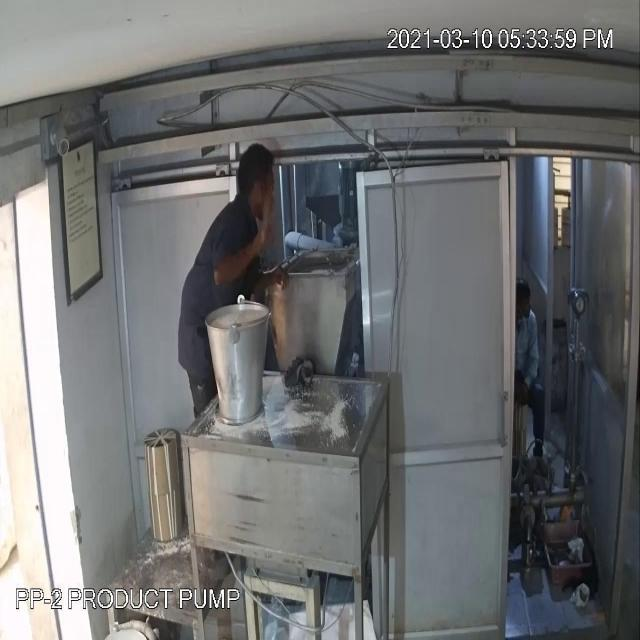No_Gloves: (197, 205, 289, 313)
